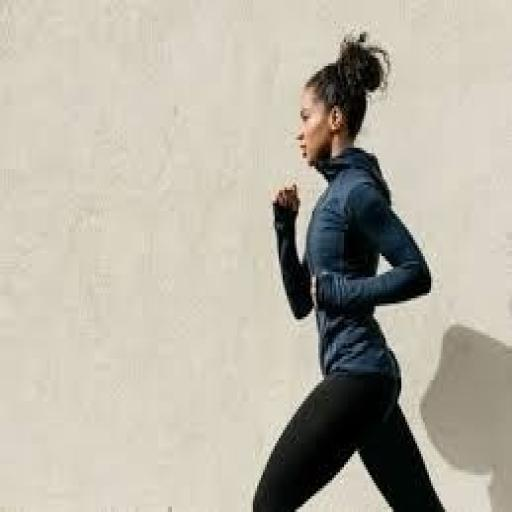running: (240, 29, 484, 509)
